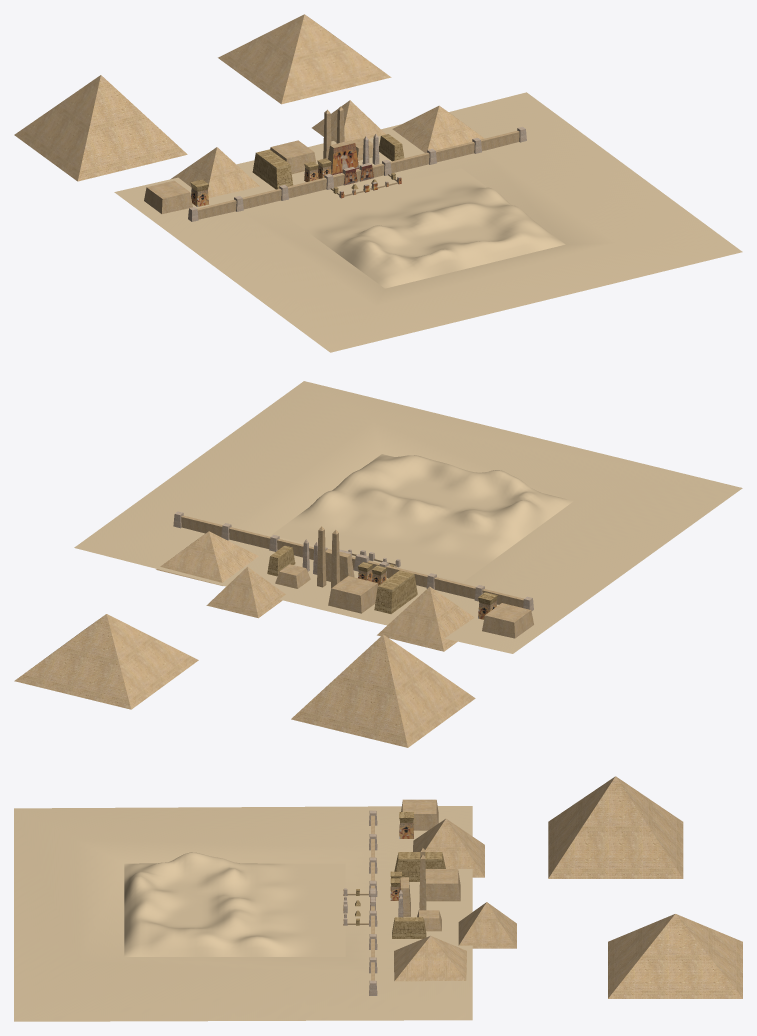
File: Egypt.fbx
3 views of the same model, one above another, from view 1: azimuth 30°, elevation 25°; view 2: azimuth 150°, elevation 25°; view 3: azimuth 270°, elevation 25° (orthographic). The views are drawn at different scales.
Parts seen in each view (by area): view 1: Background, BackgroundCity, Desert, Building2; view 2: Background, BackgroundCity, Desert, Building2; view 3: Background, BackgroundCity, Desert, Building2.
Boxes of the visible parts, left/top/right/bottom form: Background: left=114, top=92, right=742, bottom=352; BackgroundCity: left=14, top=14, right=484, bottom=213; Desert: left=281, top=168, right=565, bottom=288; Building2: left=188, top=126, right=526, bottom=221; Background: left=74, top=381, right=742, bottom=653; BackgroundCity: left=14, top=526, right=533, bottom=747; Desert: left=271, top=454, right=573, bottom=581; Building2: left=173, top=511, right=533, bottom=610; Background: left=14, top=806, right=472, bottom=1021; BackgroundCity: left=390, top=776, right=742, bottom=998; Desert: left=124, top=852, right=345, bottom=956; Building2: left=369, top=810, right=377, bottom=995.
Bounding box in the file's own units: 2516 × 3624 × 407.
